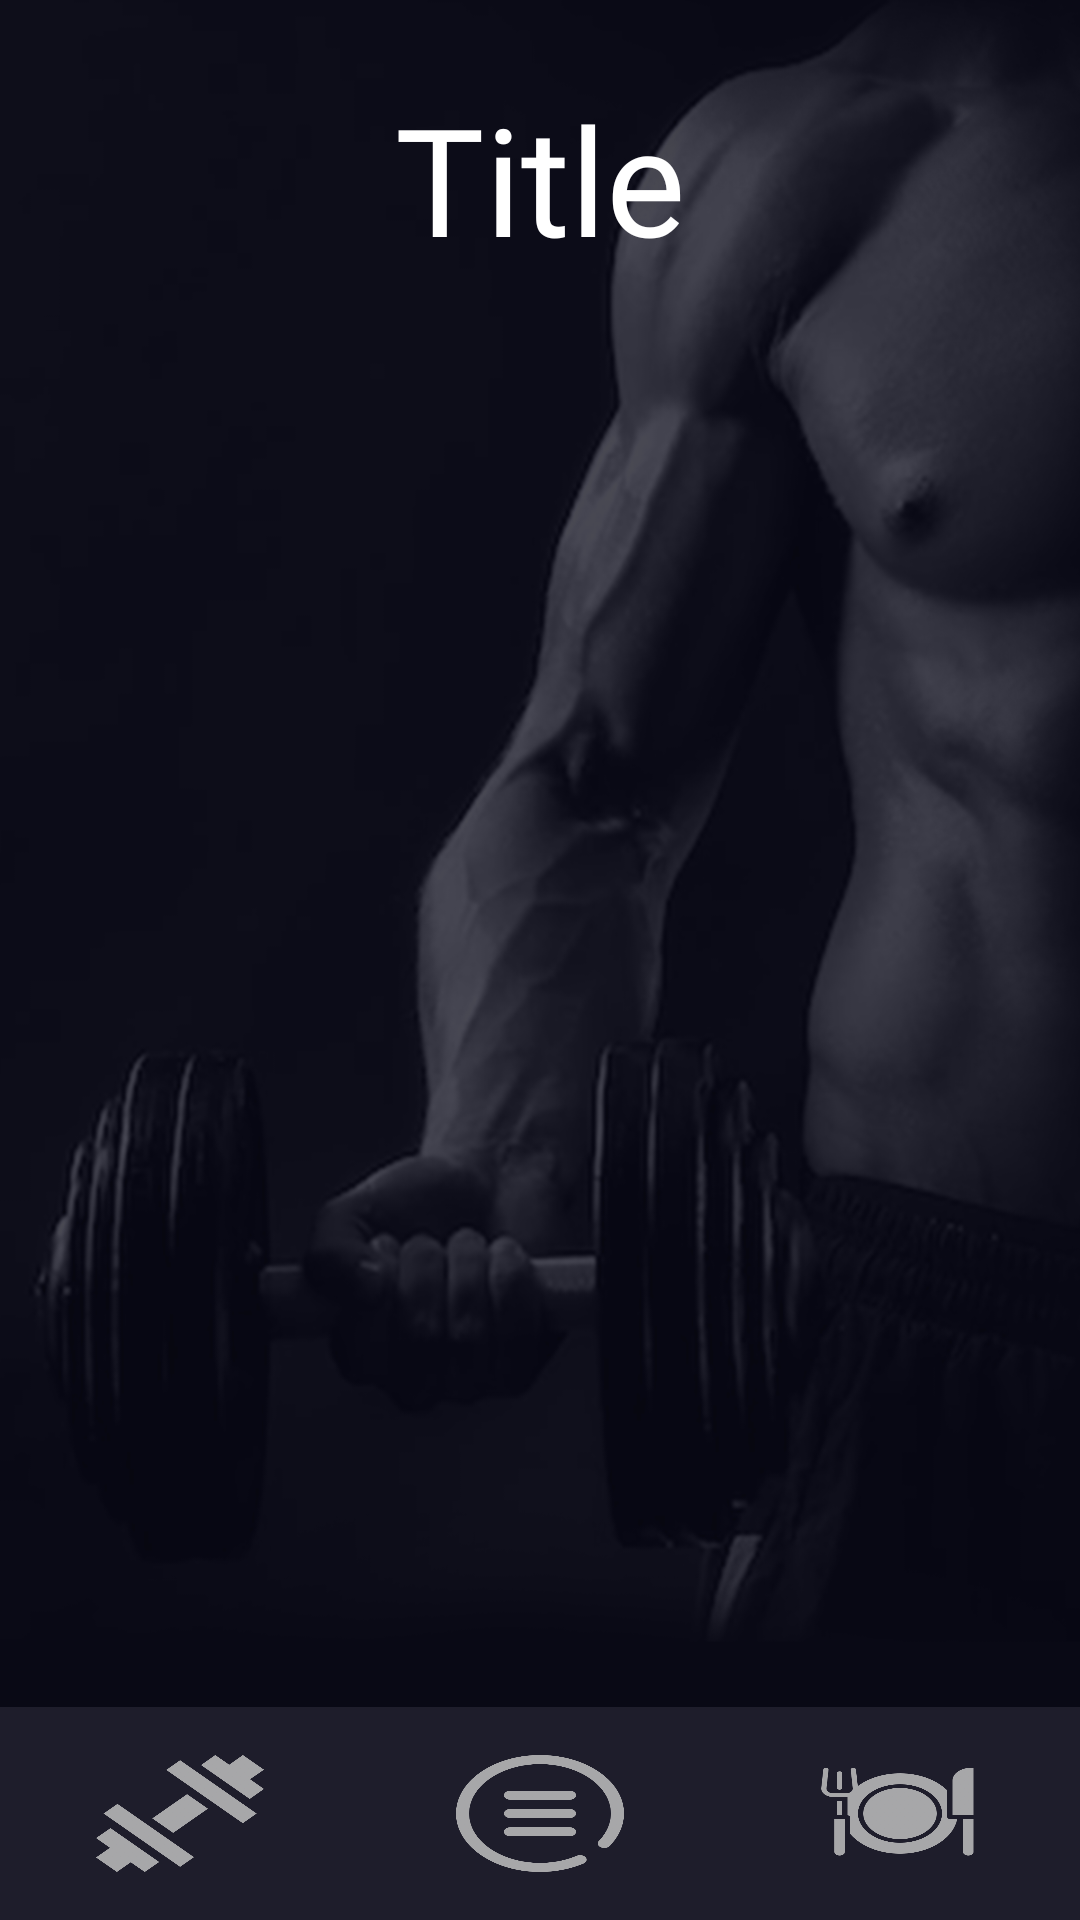

Where to tap for icons on this 1080*1920 app screen, as [x,y]:
dinner: [897,1812]
dumbell: [180,1813]
menu: [540,1813]
